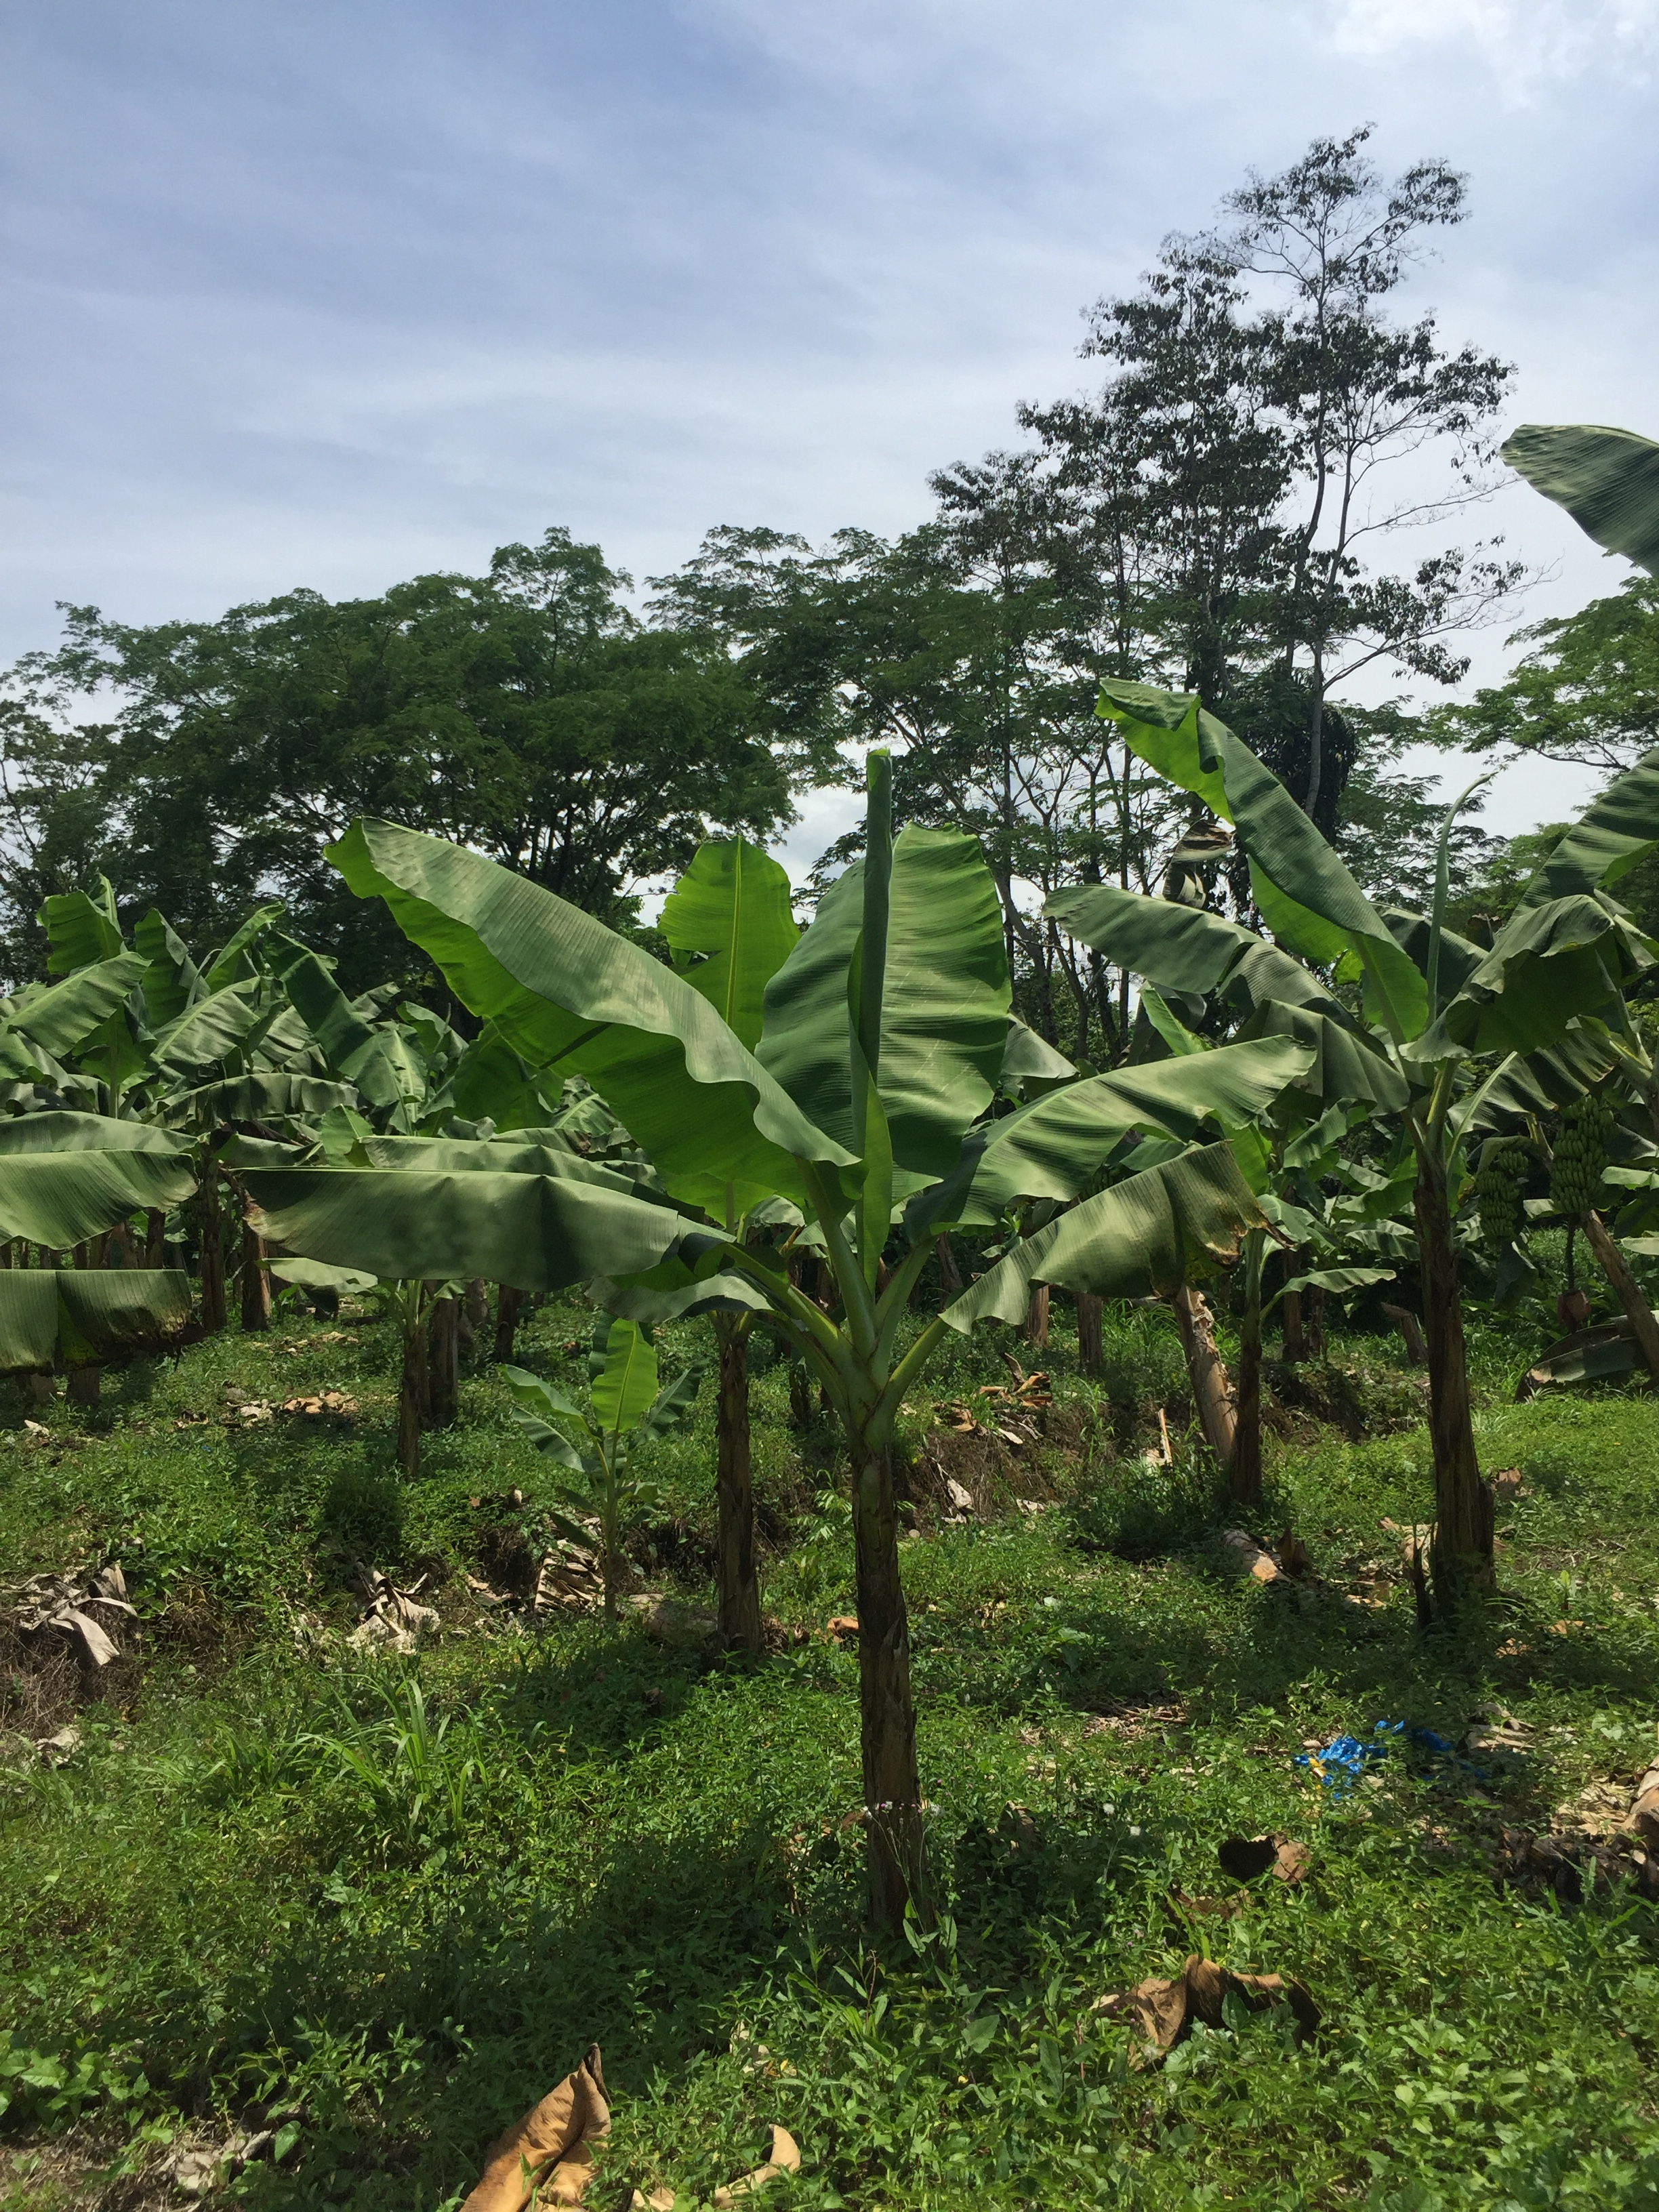candleleafs: (849, 747, 894, 1261), (1427, 772, 1500, 1035)
